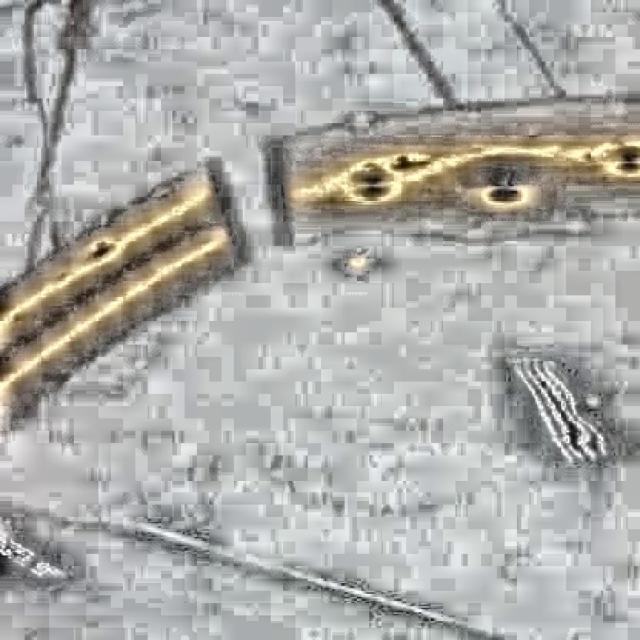dent: (468, 177, 544, 212), (345, 159, 399, 205), (595, 133, 640, 182), (86, 236, 120, 267), (393, 151, 433, 174), (342, 253, 380, 276)
